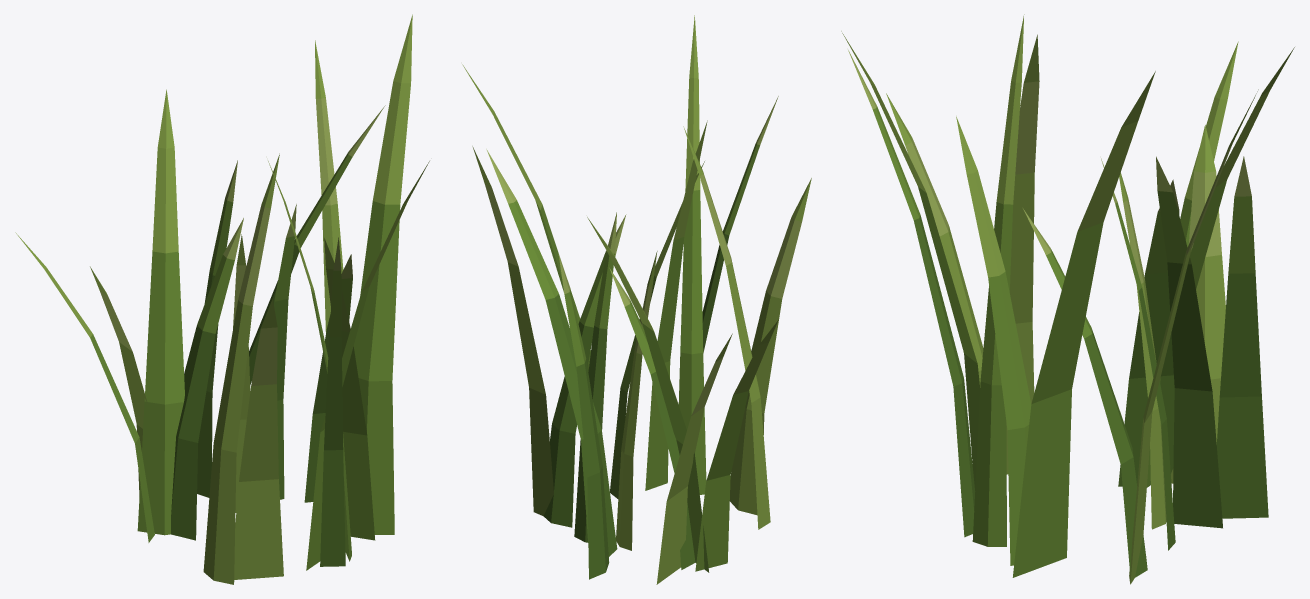
Rendered from grass_tuft_tall.glb.
3 renders of one model, left to right at view 1: azimuth 30°, elevation 25°; view 2: azimuth 150°, elevation 25°; view 3: azimuth 270°, elevation 25°, orthographic. The views are drawn at different scales.
Parts seen in each view (by area): view 1: grass_tuft_tall_blades; view 2: grass_tuft_tall_blades; view 3: grass_tuft_tall_blades.
Boxes of the visible parts, bbox=[...] form: grass_tuft_tall_blades: bbox=[15, 14, 429, 584]; grass_tuft_tall_blades: bbox=[462, 15, 811, 584]; grass_tuft_tall_blades: bbox=[841, 14, 1294, 584].
Size of the model in its own units: 0.3264 by 0.3927 by 0.2932.
